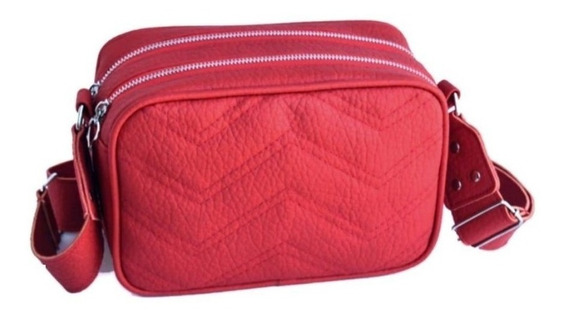cartera: (68, 17, 446, 298)
